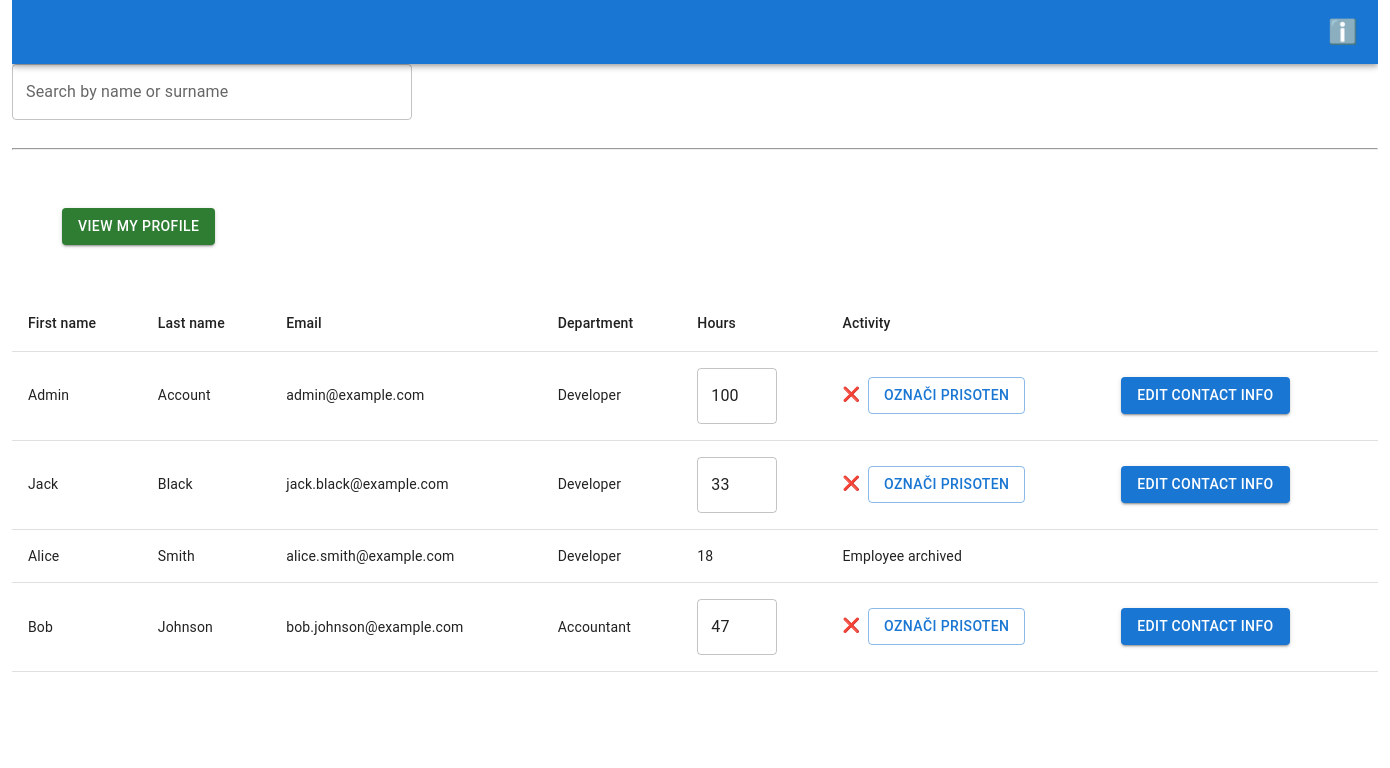
EmployeeListSearch › tabela je prazna, ko ni najdenih uporabnikov po imenu in priimku
# Vnesemo iskalni niz, ki ne obstaja
Type "NonExistingUser" into the field labelled "Search by name or surname" at (212, 92), box x1=12 y1=64 x2=412 y2=120
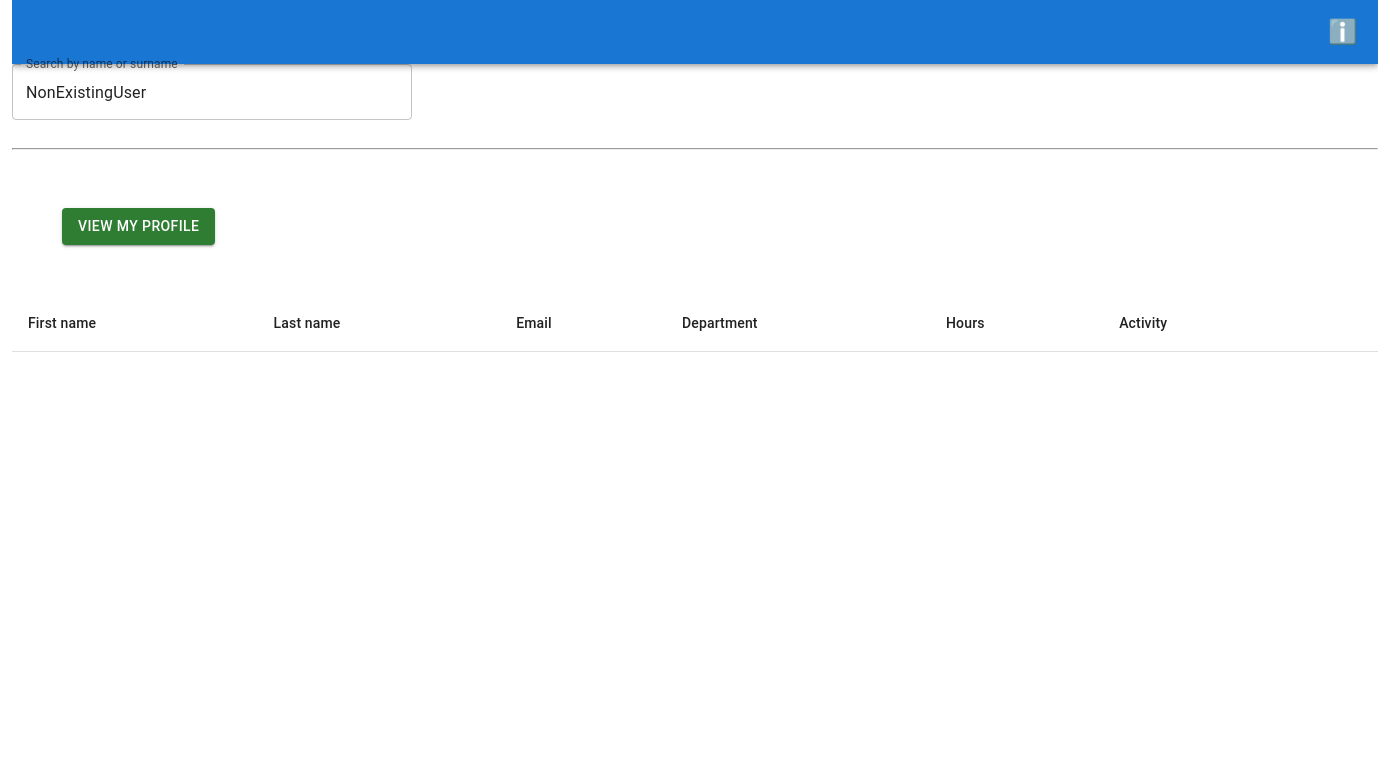
Check: the text "John" is gone
Check: the text "Smith" is gone
